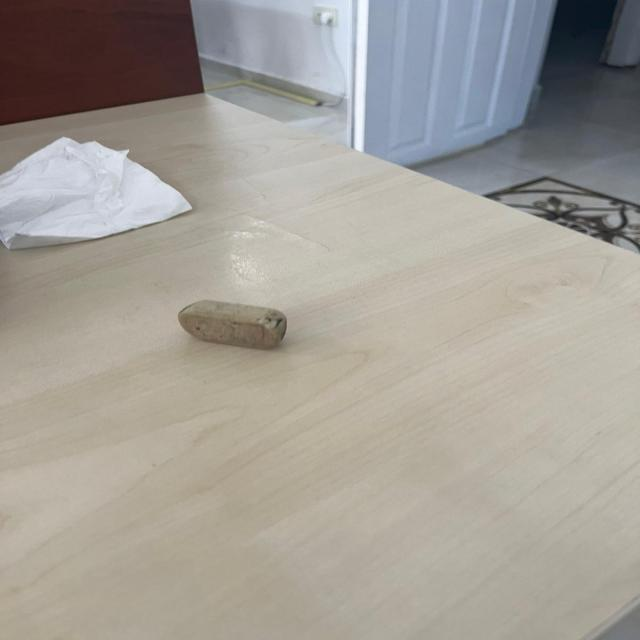eraser: (171, 289, 291, 360)
